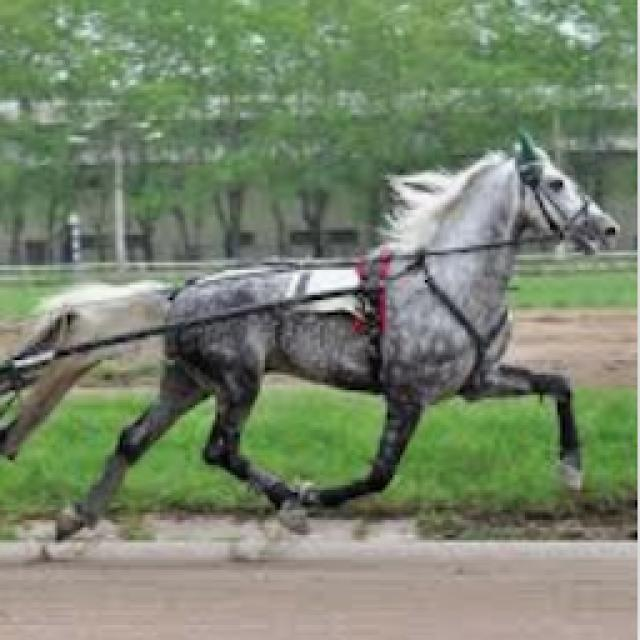Horse: (0, 127, 622, 542)
